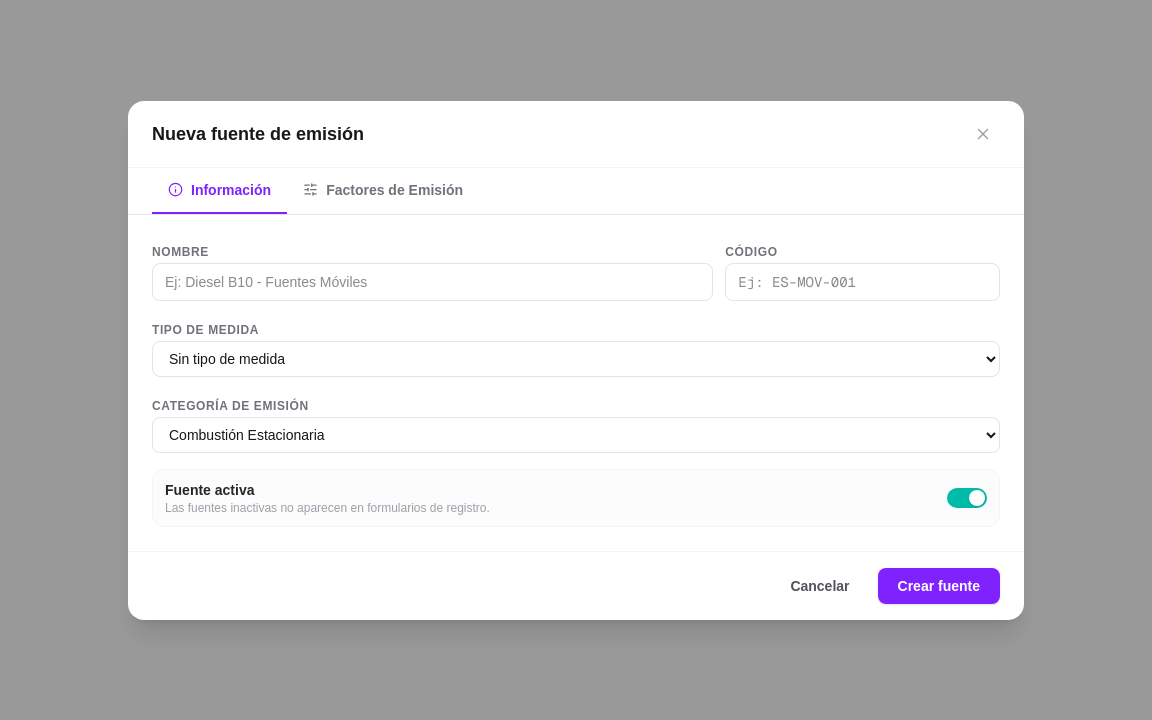
it: EmissionSourceFormModal › E-11 — Submit sin nombre › muestra error cuando el nombre tiene 1 caracter
The width and height of the screenshot is (1152, 720).
Type "A" into the field with placeholder "Ej: Diesel B10 - Fuentes Móviles".
click(433, 282); type("A")  # box [152,262,713,300]
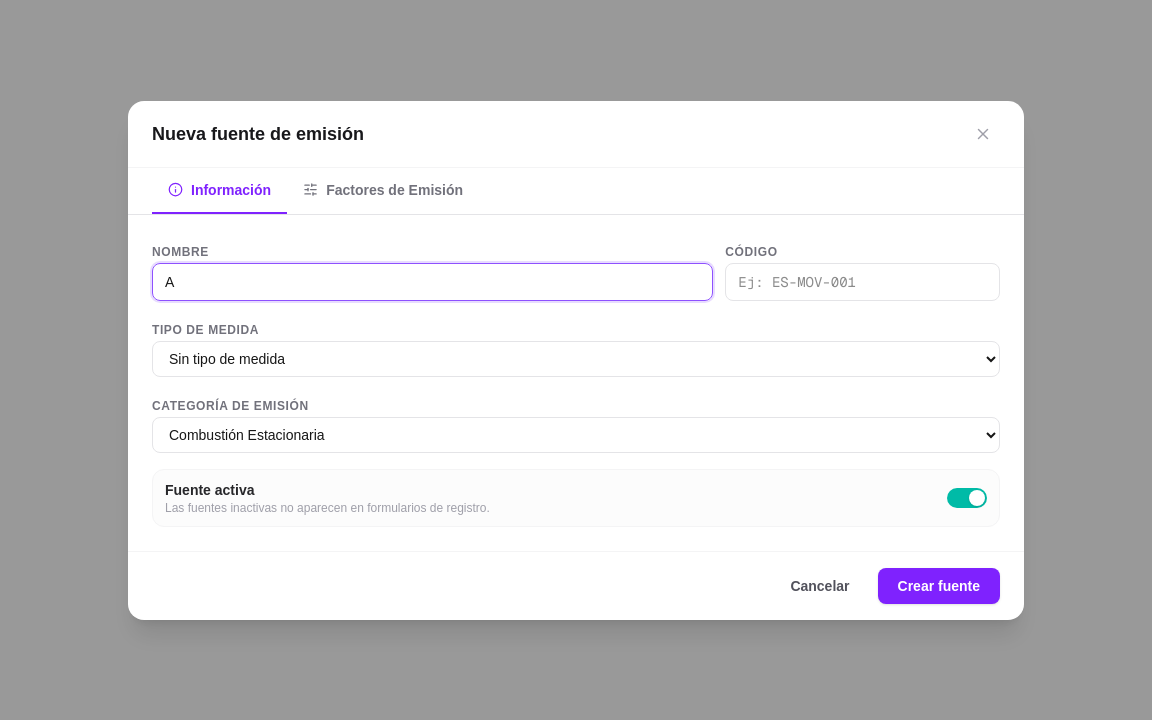
Submit the form, box [128,214,1024,620]
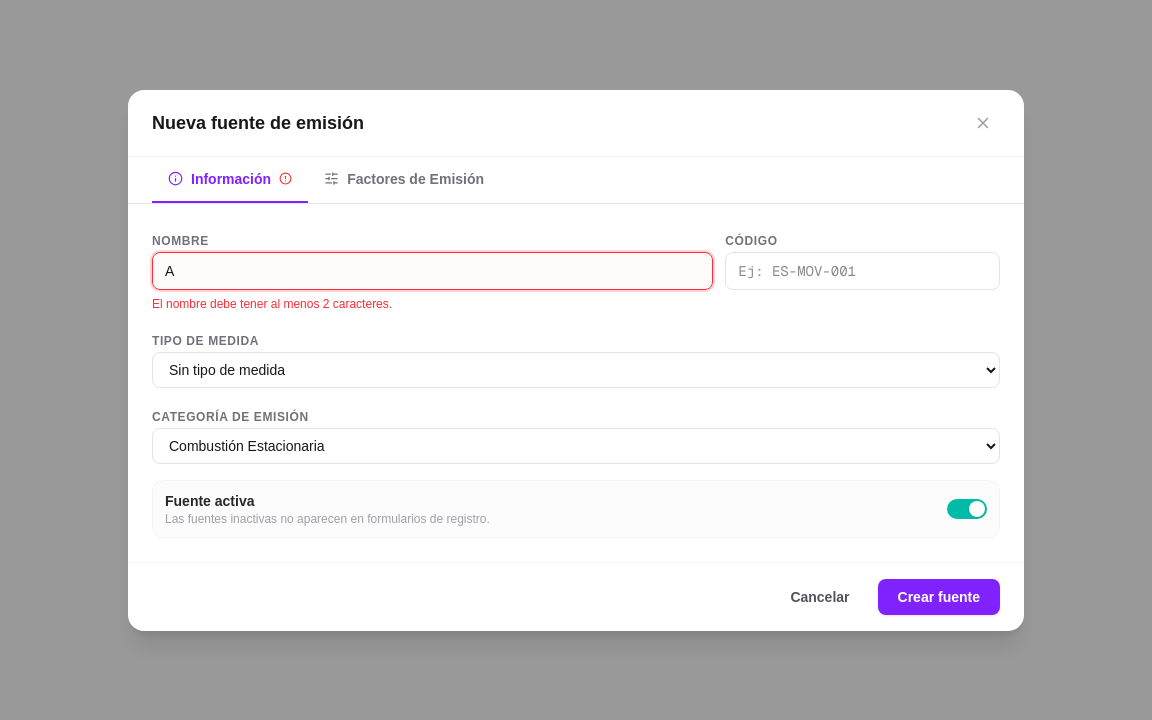
expect the text "El nombre debe tener al menos 2 caracteres." is shown: met, box [152,296,392,310]
